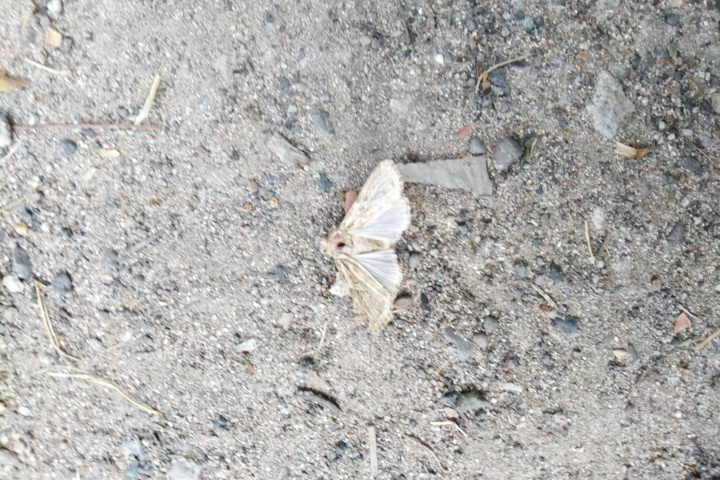INS-B: (313, 156, 422, 340)
